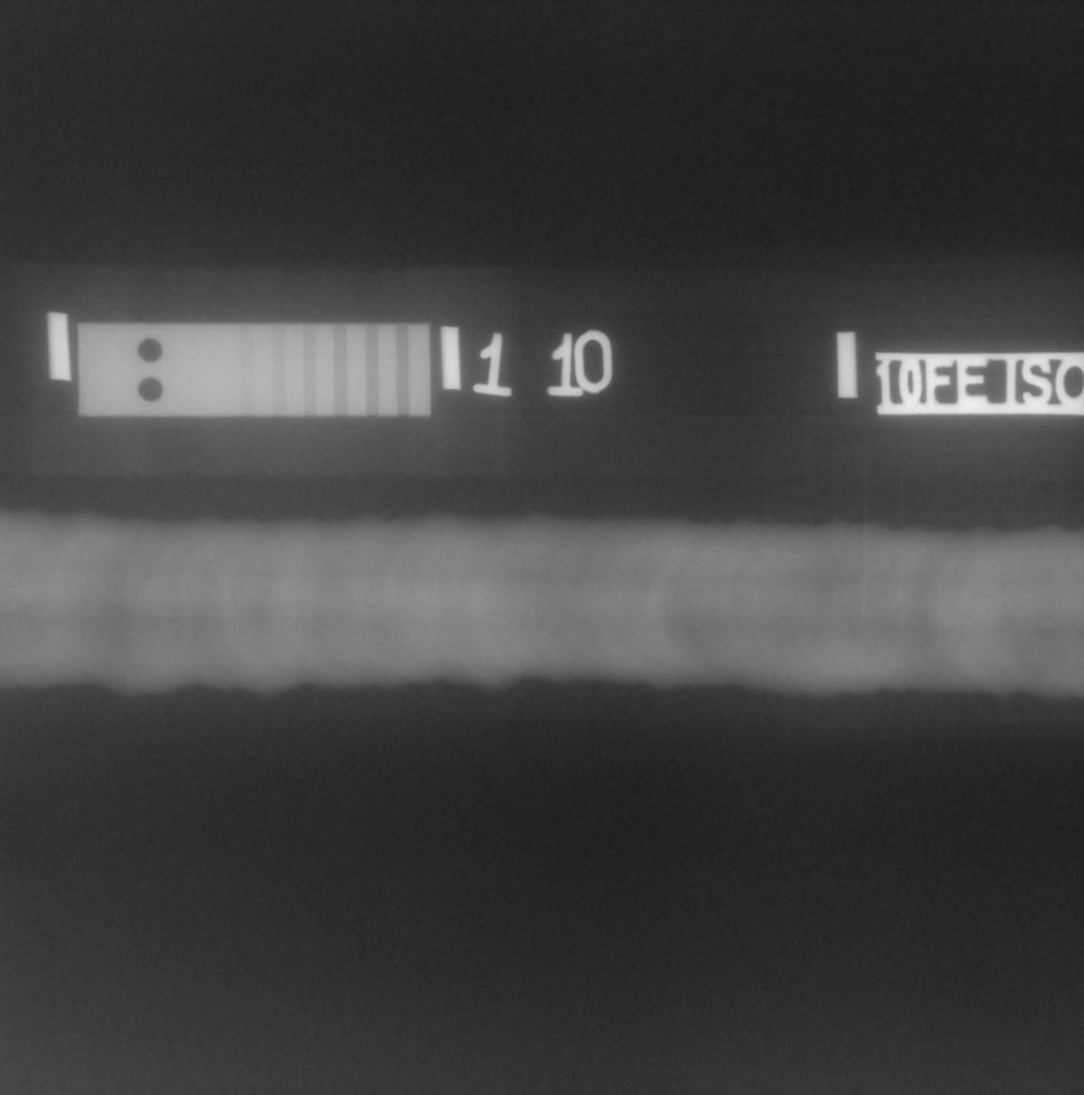Pore/Porosity: (1002, 601, 1007, 605), (987, 595, 990, 598)
Reference Standard 2: (77, 322, 431, 417)
